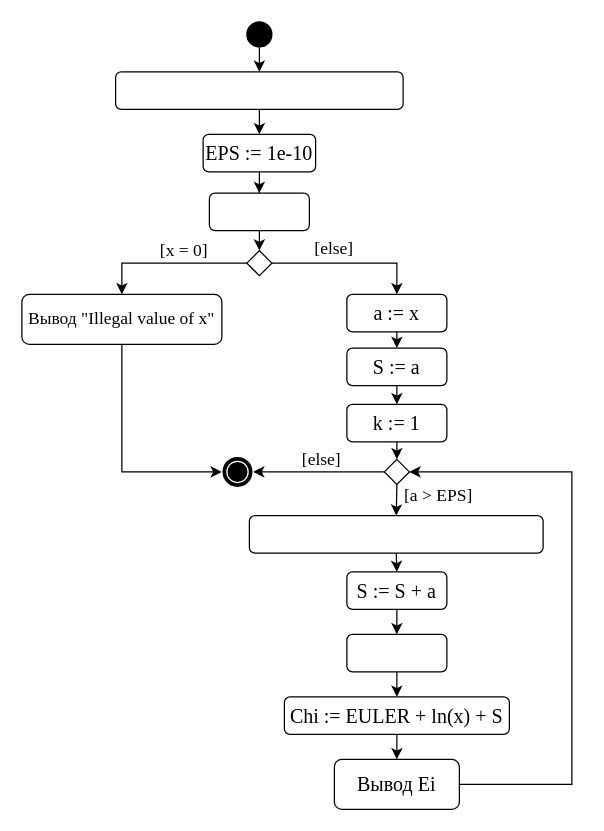
This 604x831 diagram has some shape labels left out. Each missing label, with the centre of its shape:
"a := a * (x * 2 * n) / (2 * n + 2) ** 2" belongs at pixel 395 533.
"EULER := 0.5772156649015328606" belongs at pixel 258 90.
"k := k + 1" belongs at pixel 396 652.
"Ввод x" belongs at pixel 258 211.
